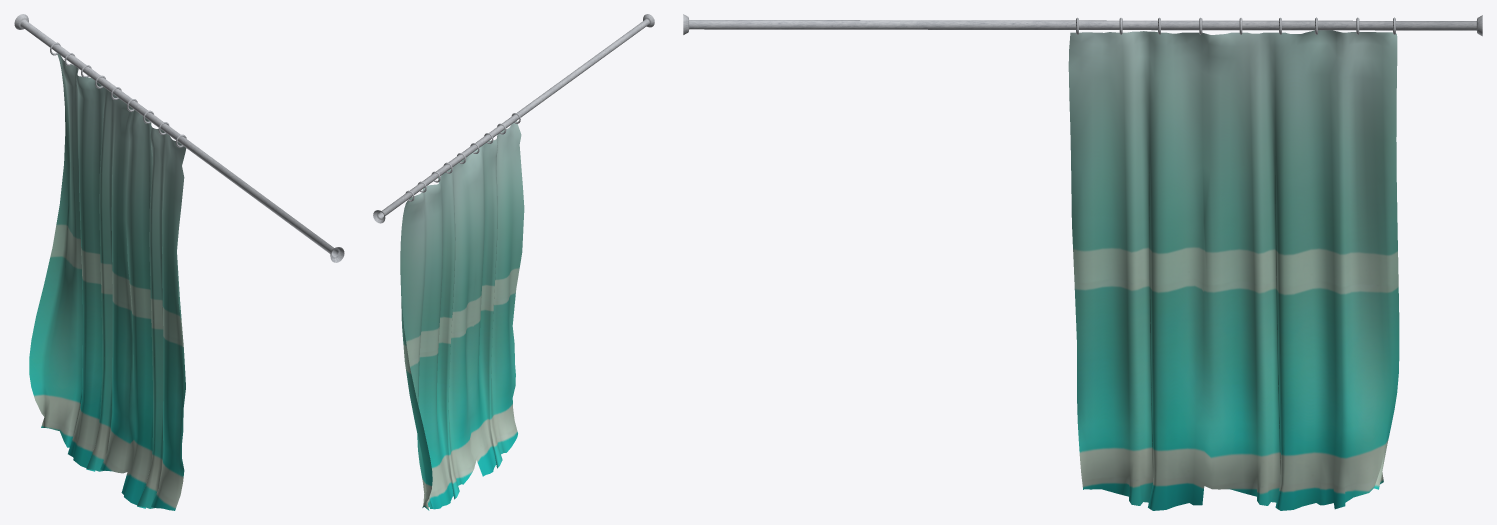
Rendered from SM_BathCurtains_A1.fbx.
3 views of the same model, side by side, from view 1: azimuth 30°, elevation 25°; view 2: azimuth 150°, elevation 25°; view 3: azimuth 270°, elevation 25° (orthographic). The views are drawn at different scales.
Visible parts, largest first — view 1: SM_BathCurtains_A1; view 2: SM_BathCurtains_A1; view 3: SM_BathCurtains_A1.
Boxes of the visible parts, x1,y1,x2,y2 form: SM_BathCurtains_A1: [14, 14, 344, 510]; SM_BathCurtains_A1: [373, 14, 654, 510]; SM_BathCurtains_A1: [683, 14, 1482, 510].
Size of the model in its own units: 18.71 by 267 by 184.
2 materials, 2 textured.
